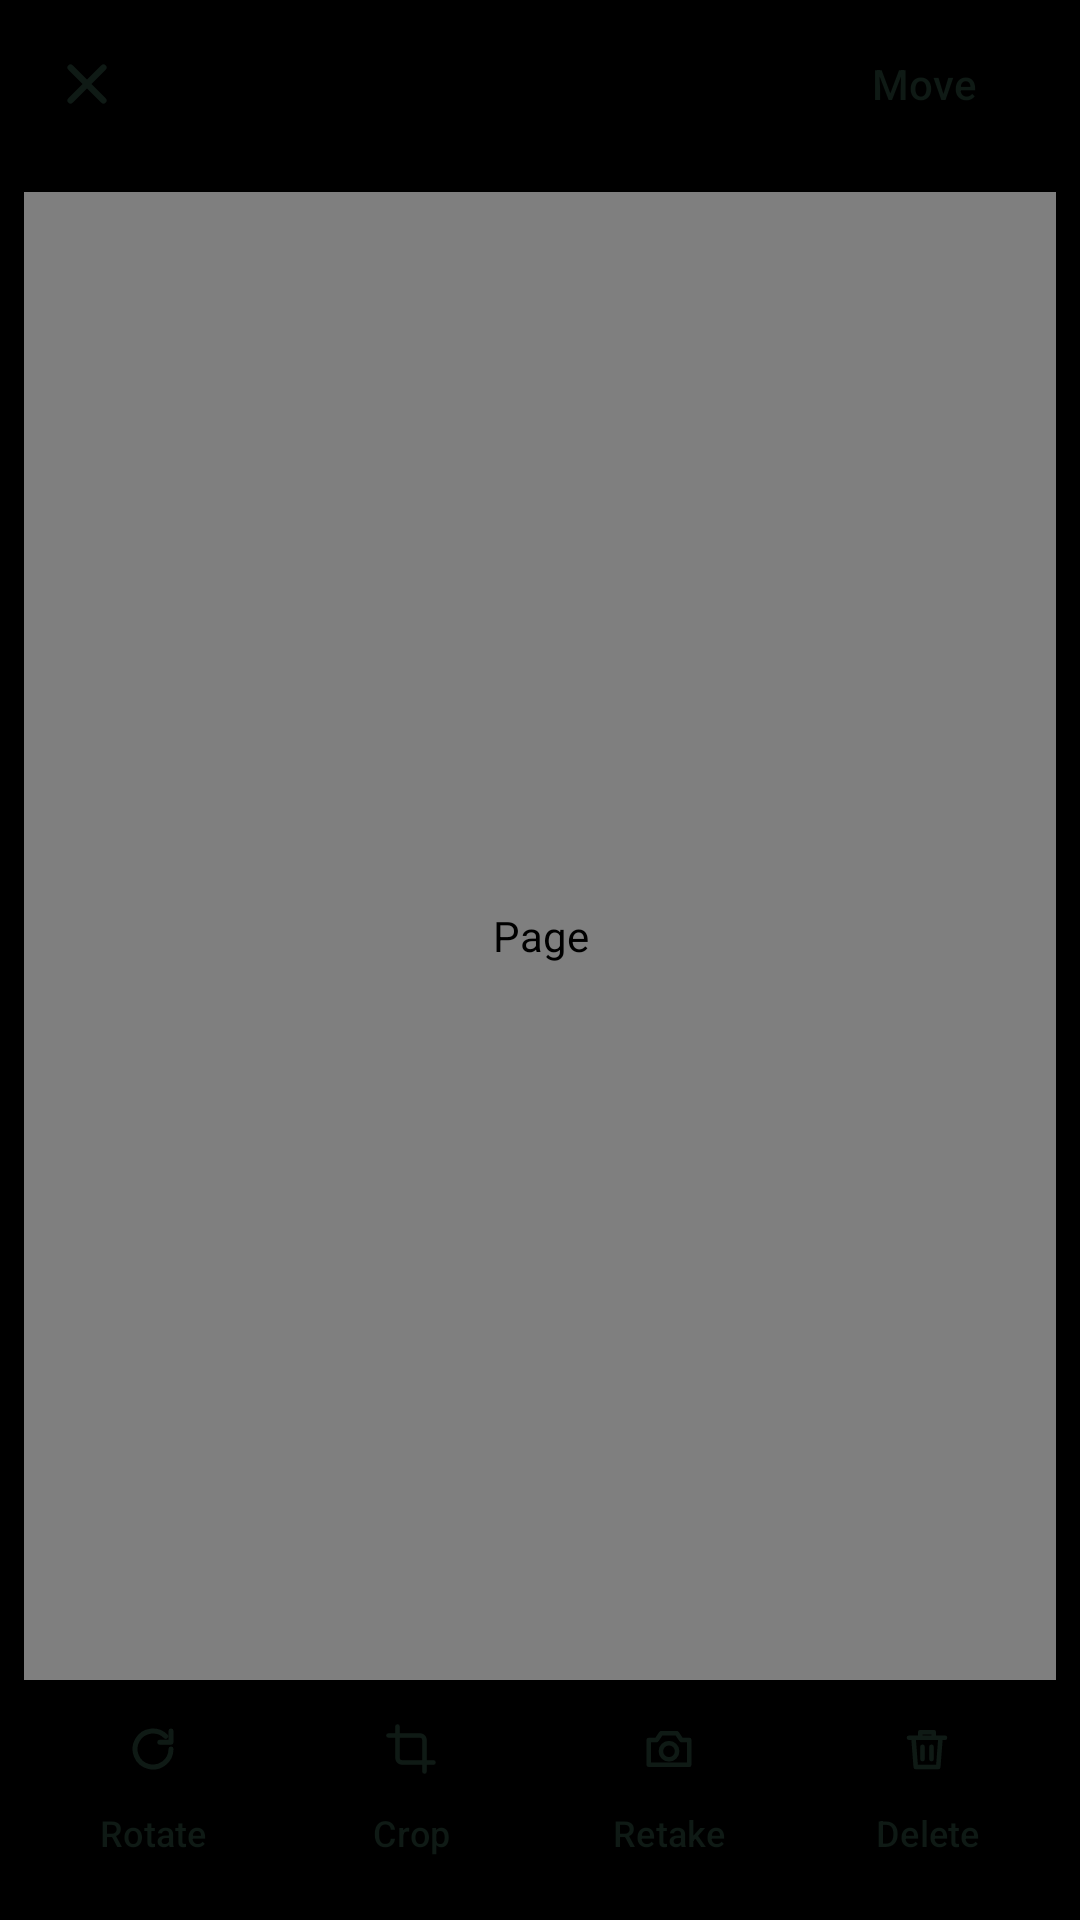

Point at icon controls on the screen. Image size 1080w x 1920h, points as point (x, y).
Close: point (87, 84)
